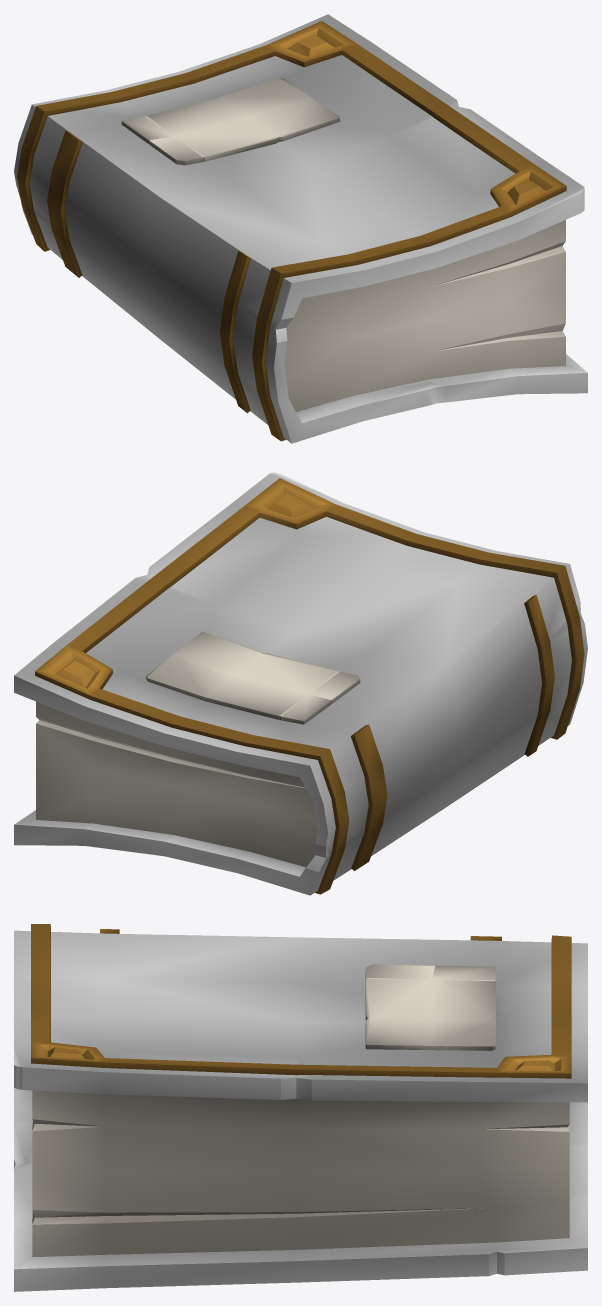
File: obj_bookClosed_C.FBX
3 views of the same model, one above another, from view 1: azimuth 30°, elevation 25°; view 2: azimuth 150°, elevation 25°; view 3: azimuth 270°, elevation 25° (orthographic). The views are drawn at different scales.
Parts seen in each view (by area): view 1: obj_bookClosed_C; view 2: obj_bookClosed_C; view 3: obj_bookClosed_C.
Part boxes in pixels (bbox=[...]): obj_bookClosed_C: bbox=[14, 14, 587, 443]; obj_bookClosed_C: bbox=[14, 472, 587, 895]; obj_bookClosed_C: bbox=[14, 924, 587, 1291].
Bounding box in the file's own units: 0.7996 × 0.4835 × 1.11.
